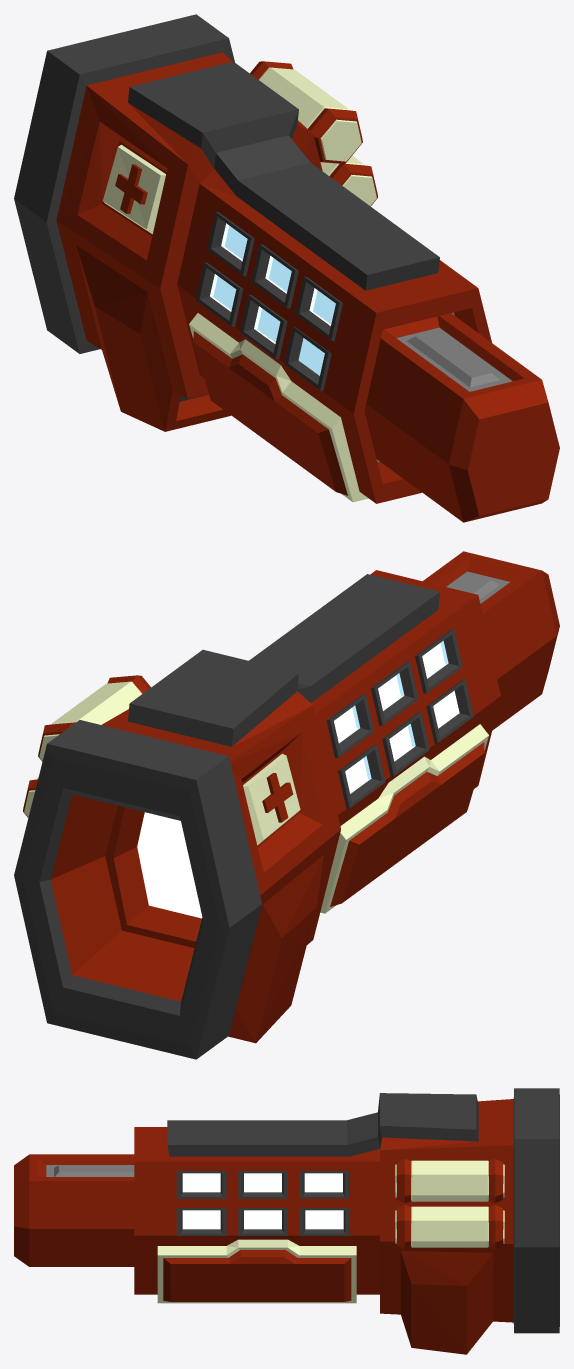
File: LPSP_MedicalFrigate_fixed.gltf
The picture shows the model from 3 angles, top to bottom: view 1: azimuth 30°, elevation 25°; view 2: azimuth 150°, elevation 25°; view 3: azimuth 270°, elevation 25°; orthographic projection. The views are drawn at different scales.
Parts seen in each view (by area): view 1: Cube; view 2: Cube; view 3: Cube.
Part boxes in pixels (x1,y1,x2,y2): Cube: [14, 14, 559, 522]; Cube: [14, 551, 559, 1059]; Cube: [14, 1088, 559, 1354].
Size of the model in its own units: 8.97 by 10.87 by 24.17.
2 materials, 1 textured.
